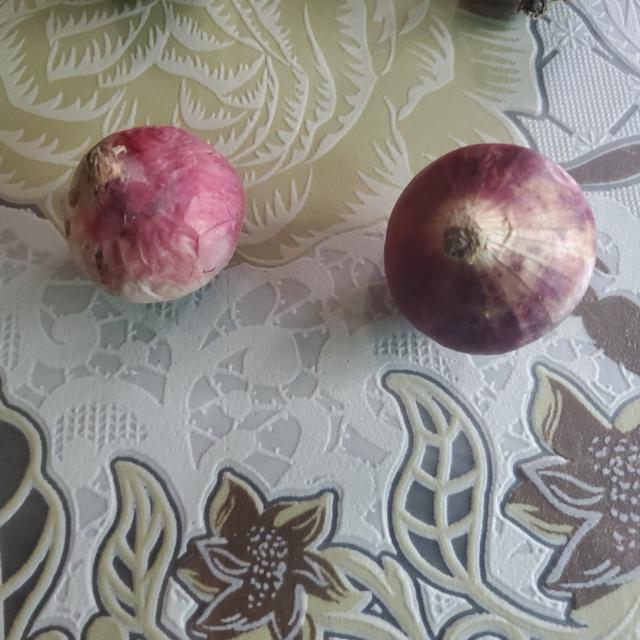onion: (386, 147, 599, 357), (71, 121, 243, 296)
